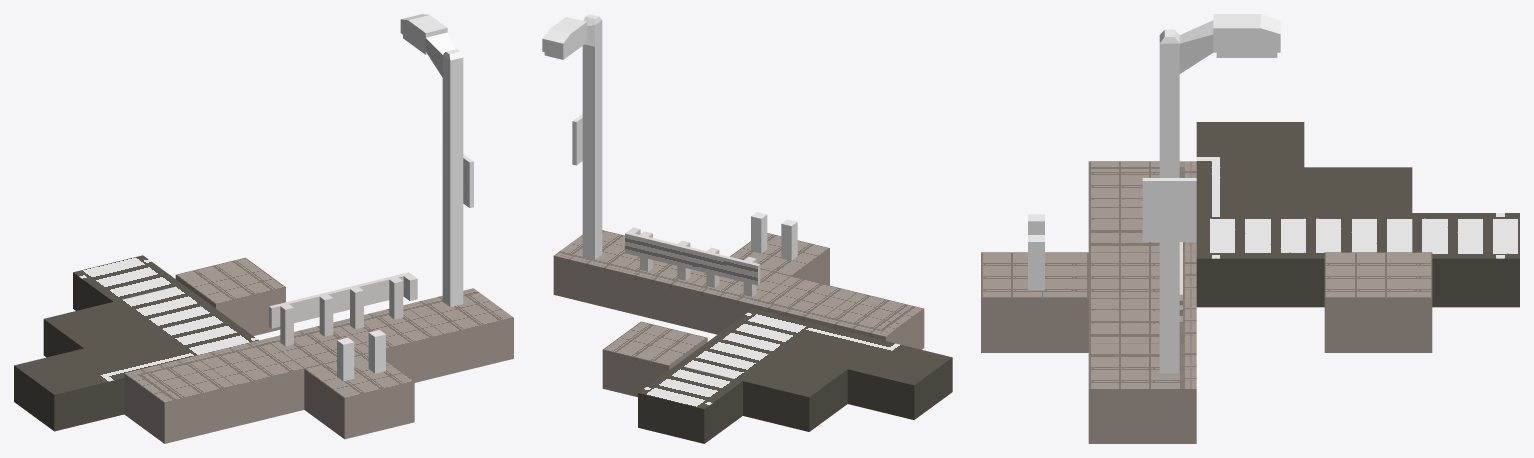
File: NewRoad.gltf
3 views of the same model, side by side, from view 1: azimuth 30°, elevation 25°; view 2: azimuth 150°, elevation 25°; view 3: azimuth 270°, elevation 25° (orthographic). The views are drawn at different scales.
Parts seen in each view (by area): view 1: mesh (×16); view 2: mesh (×16); view 3: mesh (×16).
Part boxes in pixels (x1,y1,x2,y2): mesh (×16): (14, 14, 513, 443); mesh (×16): (542, 14, 952, 443); mesh (×16): (981, 14, 1519, 443).
Size of the model in its own units: 6 by 4.12 by 5.
15 materials, 11 textured.
